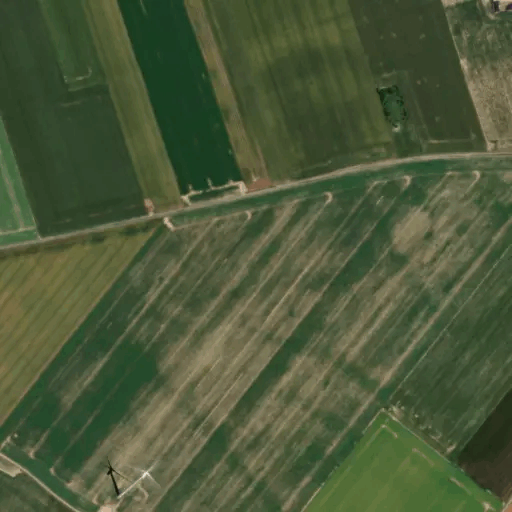wt: (99, 450, 162, 505)
